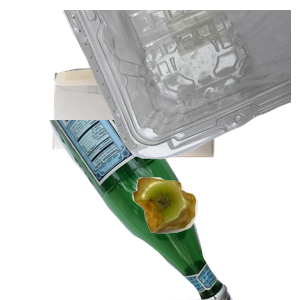glass: (37, 120, 262, 300)
paper: (50, 61, 257, 211)
plastic: (60, 10, 300, 162)
trash: (130, 175, 300, 300)
